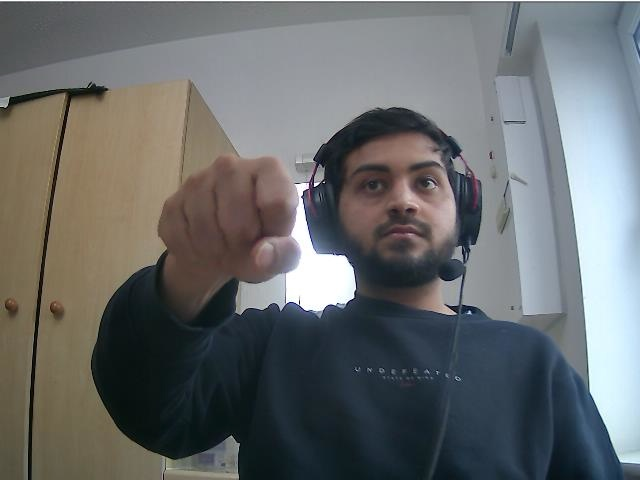hold: (155, 155, 300, 285)
